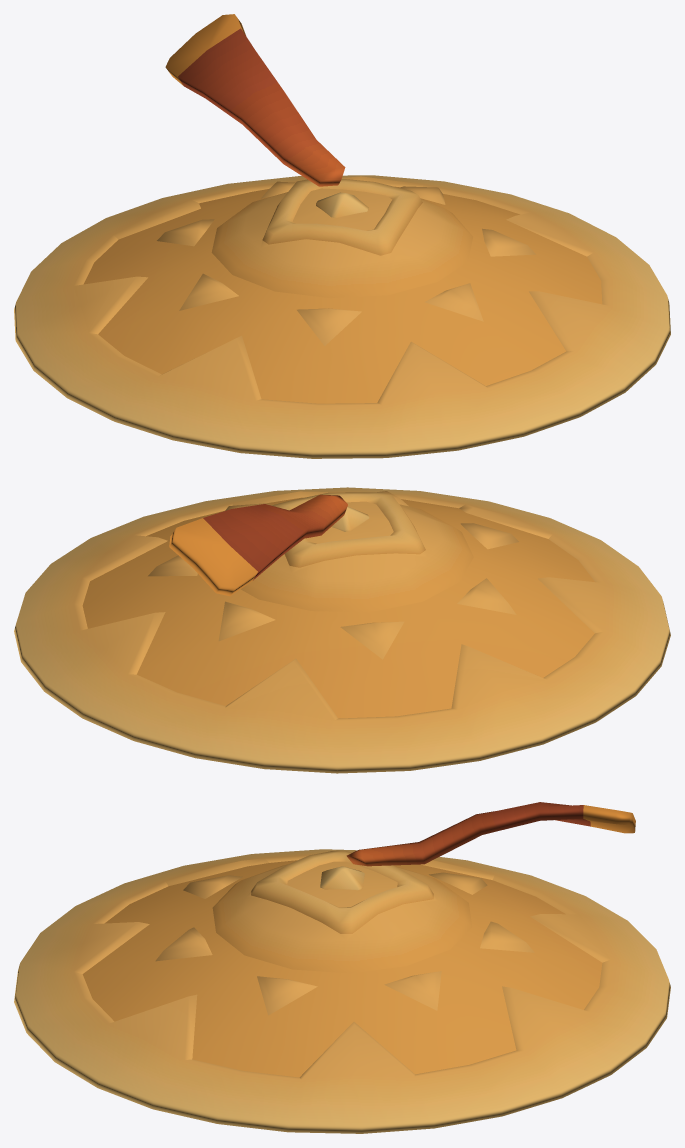
Rendered from CharSkyKid_Prop_AP25Cymbals.glb.
The picture shows the model from 3 angles, top to bottom: view 1: azimuth 30°, elevation 25°; view 2: azimuth 150°, elevation 25°; view 3: azimuth 270°, elevation 25°; orthographic projection.
Visible parts, largest first — view 1: CharSkyKid_Prop_AP25Cymbals; view 2: CharSkyKid_Prop_AP25Cymbals; view 3: CharSkyKid_Prop_AP25Cymbals.
Boxes of the visible parts, x1,y1,x2,y2 form: CharSkyKid_Prop_AP25Cymbals: (14,14,670,458); CharSkyKid_Prop_AP25Cymbals: (14,487,670,773); CharSkyKid_Prop_AP25Cymbals: (14,802,670,1133).
Size of the model in its own units: 5.19 by 1.79 by 5.19.
1 material, 1 textured.
